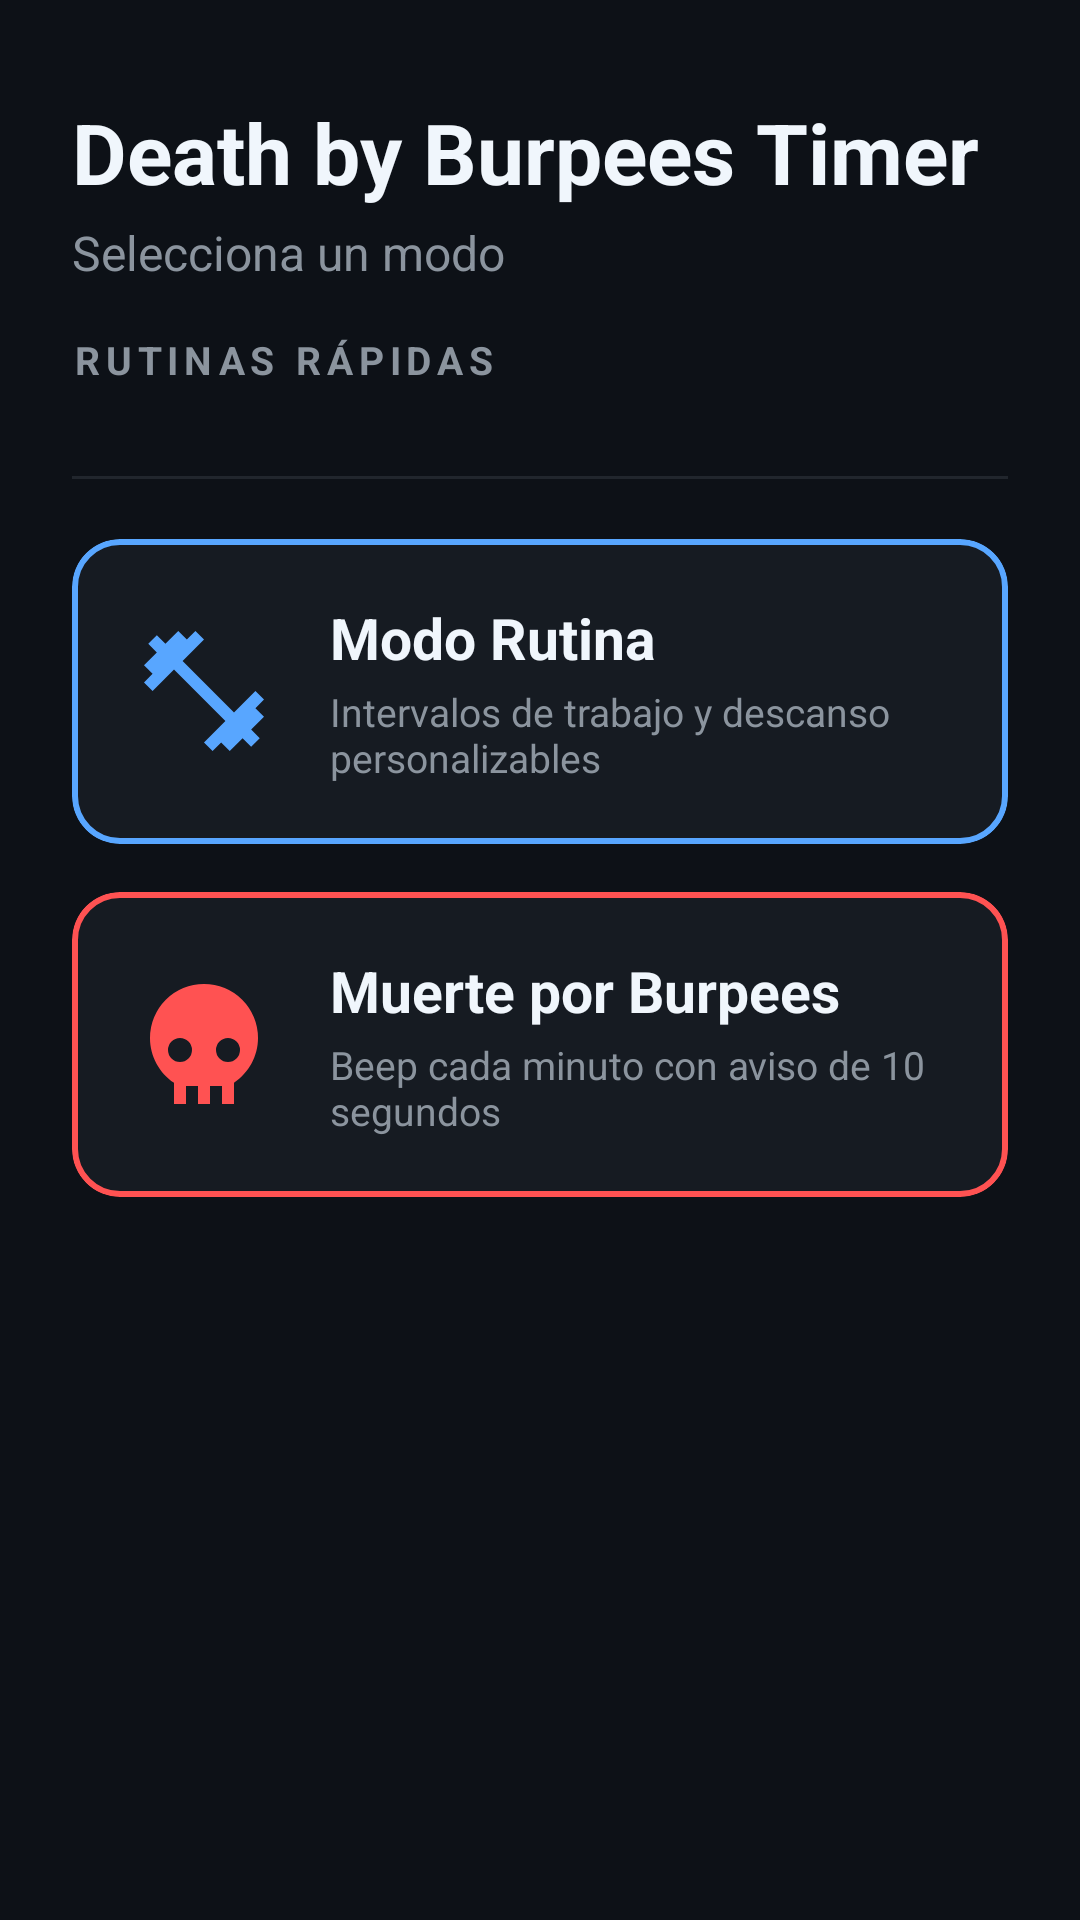

Icons on this 1080×1920 Android screen, each with its box as (x1, y1, x2, y2):
dumbbell: (144, 631, 264, 751)
skull: (150, 984, 258, 1104)
